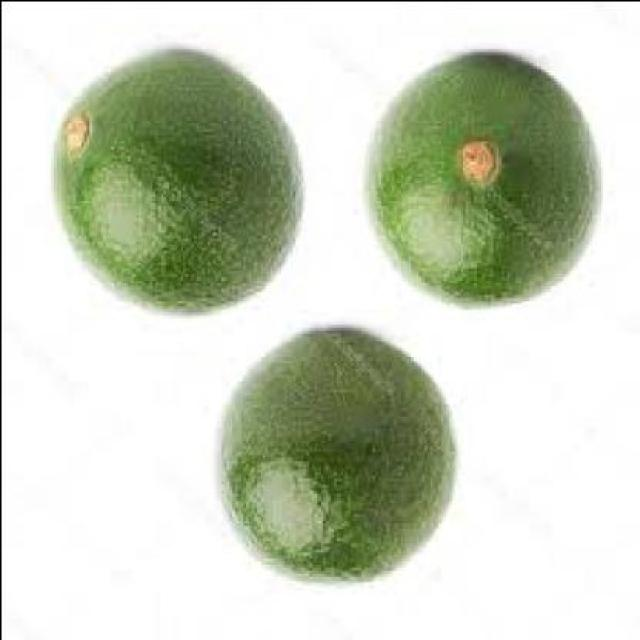BIODEGRADABLE: (54, 44, 304, 316), (222, 329, 455, 578), (369, 52, 598, 302)
